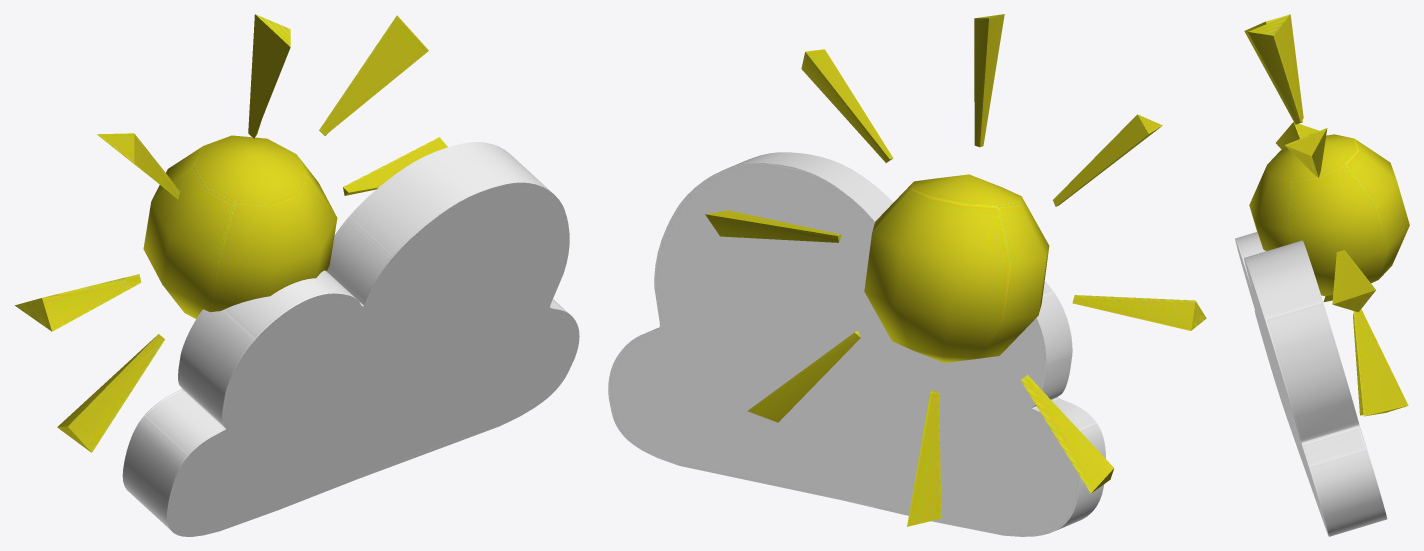
Rendered from 3d_sol_com_nuvem.glb.
The picture shows the model from 3 angles, left to right: view 1: azimuth 30°, elevation 25°; view 2: azimuth 150°, elevation 25°; view 3: azimuth 270°, elevation 25°; orthographic projection. The views are drawn at different scales.
Visible parts, largest first — view 1: node_id8; view 2: node_id8; view 3: node_id8.
Boxes of the visible parts, x1,y1,x2,y2 form: node_id8: (15, 14, 579, 536); node_id8: (608, 14, 1206, 536); node_id8: (1235, 14, 1409, 536).
Bounding box in the file's own units: 0.5227 × 0.4481 × 0.1697.
Materials: 1 (1 with a texture image).
